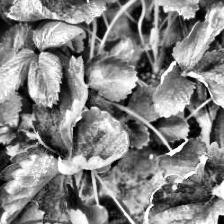Powdery Mildew Leaf: (142, 148, 224, 224), (30, 54, 88, 160), (58, 107, 129, 175), (0, 142, 58, 224), (171, 1, 224, 73), (152, 60, 197, 118), (184, 48, 224, 112)
